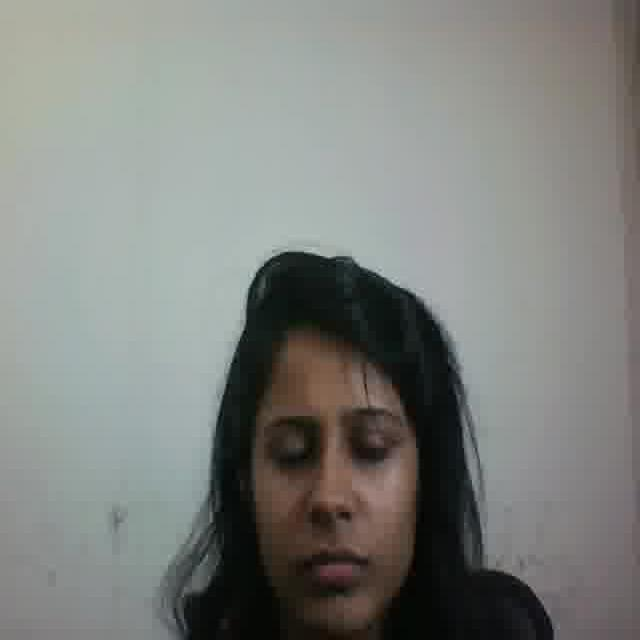Boredom: (242, 339, 413, 632)
